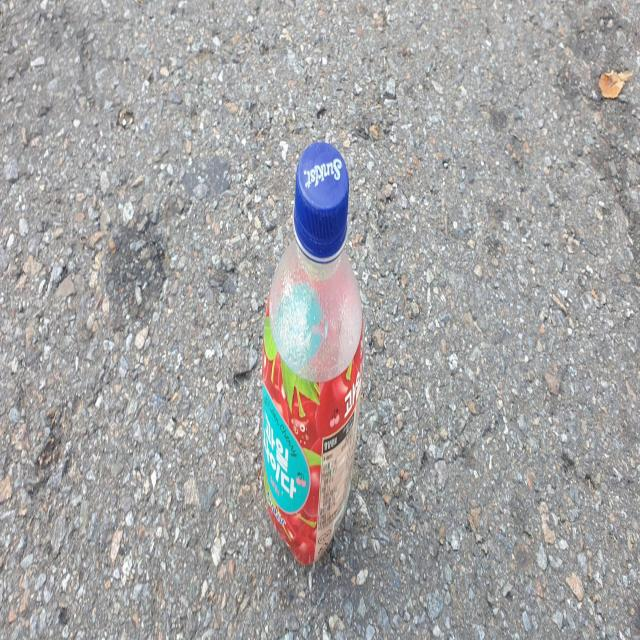plastic: (263, 140, 364, 564)
